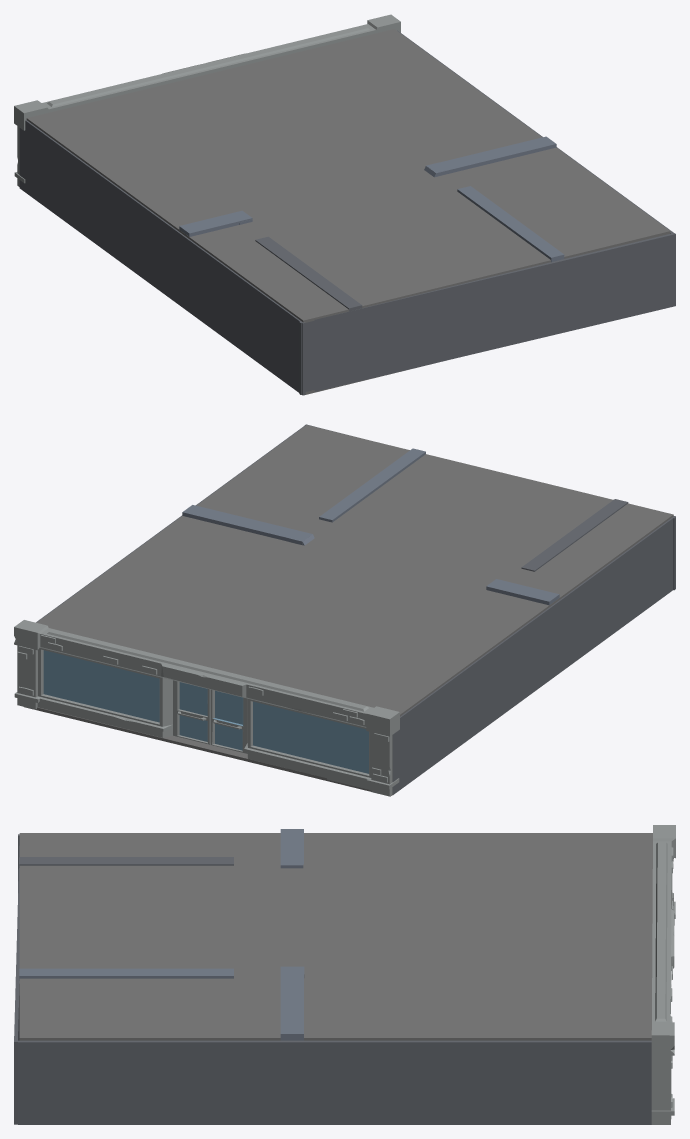
Rendered from ristorante.fbx.
3 views of the same model, one above another, from view 1: azimuth 30°, elevation 25°; view 2: azimuth 150°, elevation 25°; view 3: azimuth 270°, elevation 25° (orthographic). The views are drawn at different scales.
Visible parts, largest first — view 1: Cube.076_Cube.004, Cube.071_Cube.016, Cube.056_Cube.001, Muro_con_porta, Cube.016_Cube.041, Cube.040_Cube.050, MuroMagazzinoCucina_Cube.062; view 2: Cube.076_Cube.004, Cube.056_Cube.001, Muro_con_porta, Muro_con_porta.002, Muro_con_porta.001, Cube.016_Cube.041, Cube.001, Muro_con_porta.003, Cube.040_Cube.050, MuroMagazzinoCucina_Cube.062; view 3: Cube.076_Cube.004, Cube.057_Cube.015, Muro_con_porta, Cube.016_Cube.041, Cube.040_Cube.050, MuroMagazzinoCucina_Cube.062, Cube.071_Cube.016.
Boxes of the visible parts, x1=… form: Cube.076_Cube.004: x1=26, y1=29, x2=670, y2=322; Cube.071_Cube.016: x1=299, y1=233, x2=675, y2=394; Cube.056_Cube.001: x1=19, y1=120, x2=305, y2=395; Muro_con_porta: x1=14, y1=14, x2=400, y2=186; Cube.016_Cube.041: x1=179, y1=136, x2=556, y2=236; Cube.040_Cube.050: x1=457, y1=186, x2=564, y2=261; MuroMagazzinoCucina_Cube.062: x1=255, y1=236, x2=362, y2=311; Cube.076_Cube.004: x1=36, y1=425, x2=673, y2=716; Cube.056_Cube.001: x1=392, y1=516, x2=675, y2=795; Muro_con_porta: x1=14, y1=620, x2=399, y2=796; Muro_con_porta.002: x1=43, y1=650, x2=368, y2=773; Muro_con_porta.001: x1=179, y1=682, x2=243, y2=750; Cube.016_Cube.041: x1=182, y1=505, x2=559, y2=605; Cube.001: x1=24, y1=707, x2=391, y2=796; Muro_con_porta.003: x1=173, y1=680, x2=247, y2=753; Cube.040_Cube.050: x1=319, y1=448, x2=425, y2=522; MuroMagazzinoCucina_Cube.062: x1=521, y1=499, x2=628, y2=571; Cube.076_Cube.004: x1=19, y1=833, x2=652, y2=1040; Cube.057_Cube.015: x1=18, y1=1040, x2=651, y2=1124; Muro_con_porta: x1=651, y1=825, x2=675, y2=1124; Cube.016_Cube.041: x1=280, y1=829, x2=303, y2=1040; Cube.040_Cube.050: x1=19, y1=968, x2=233, y2=980; MuroMagazzinoCucina_Cube.062: x1=19, y1=857, x2=233, y2=867; Cube.071_Cube.016: x1=14, y1=846, x2=19, y2=1124.
Bounding box in the file's own units: 3314 × 1132 × 4406.
